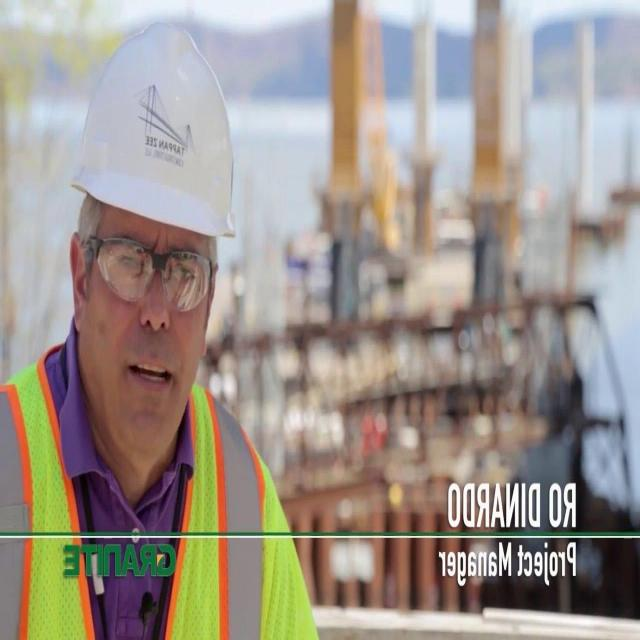Reflective-Jacket: (0, 370, 277, 640)
Safety-Helmet: (70, 17, 238, 250)
